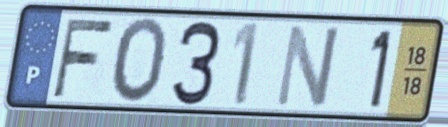1: (230, 19, 261, 110), (367, 28, 394, 111)
3: (167, 16, 225, 109)
F: (49, 16, 117, 100)
N: (272, 20, 343, 110)
O: (109, 14, 171, 106)
